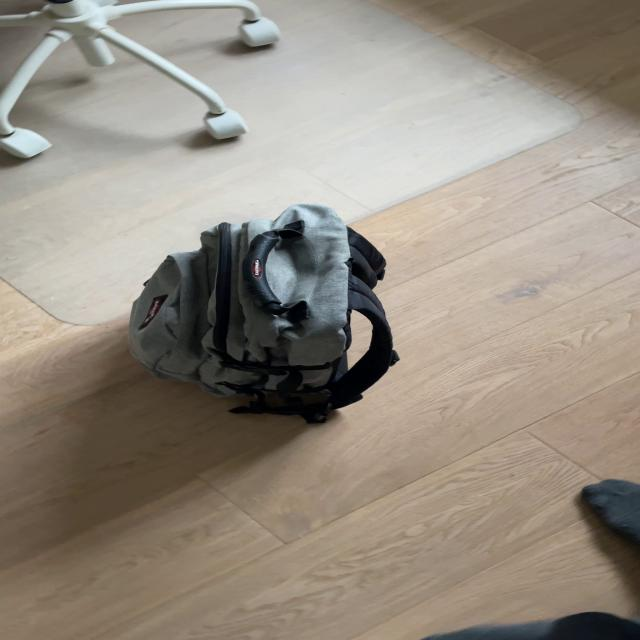backpack: (112, 198, 410, 426)
